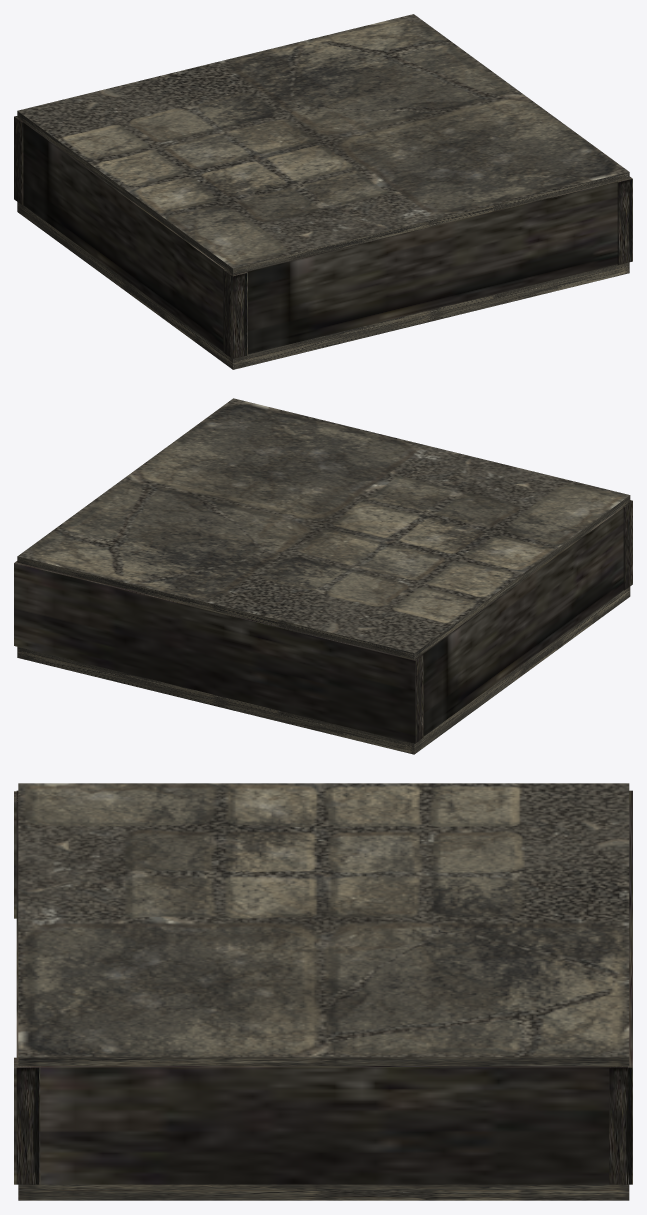
3 views of the same model, one above another, from view 1: azimuth 30°, elevation 25°; view 2: azimuth 150°, elevation 25°; view 3: azimuth 270°, elevation 25° (orthographic). The views are drawn at different scales.
Parts seen in each view (by area): view 1: Cube.006, Cube.002, Cube.005, Cube, Cube.004, Cube.003; view 2: Cube.006, Cube.003, Cube.005, Cube, Cube.002; view 3: Cube.006, Cube.004, Cube, Cube.003, Cube.002.
Boxes of the visible parts, x1,y1,x2,y2 form: Cube.006: (17,14,629,274); Cube.002: (223,176,631,358); Cube.005: (23,122,247,358); Cube: (17,202,629,369); Cube.004: (617,178,632,264); Cube.003: (14,116,23,205); Cube.006: (17,398,630,659); Cube.003: (14,562,423,743); Cube.005: (415,500,632,736); Cube: (17,586,630,754); Cube.002: (623,501,632,590); Cube.006: (18,783,629,1065); Cube.004: (14,1057,627,1184); Cube: (18,1184,629,1200); Cube.003: (609,790,632,1184); Cube.002: (16,790,40,1184).
Bounding box in the file's own units: 19.49 × 4.71 × 18.41.
Materials: 3 (3 with a texture image).
